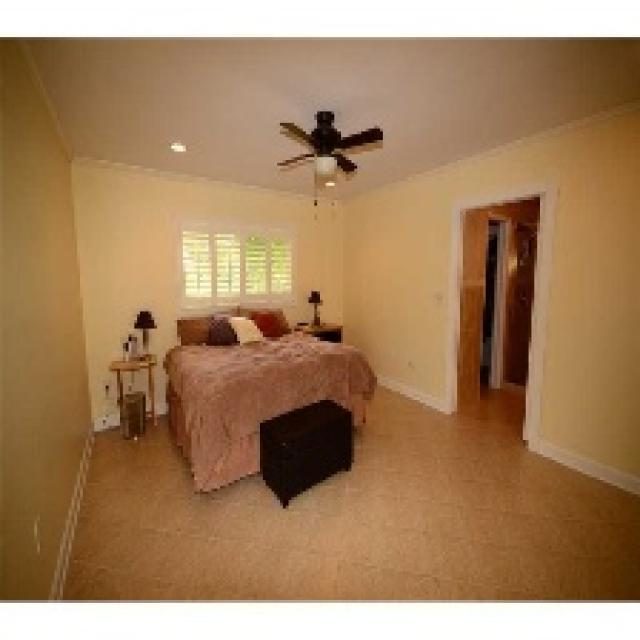Bed: (160, 306, 374, 494)
